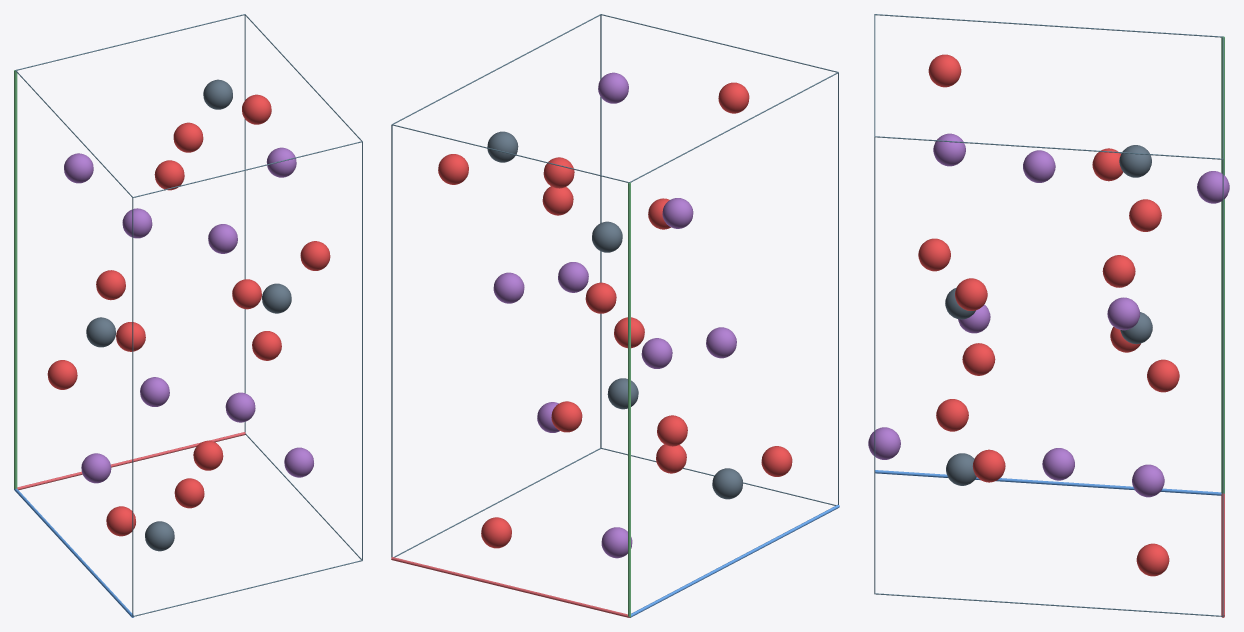
Rendered from chat-potassium-carbonate.glb.
3 renders of one model, left to right at view 1: azimuth 30°, elevation 25°; view 2: azimuth 150°, elevation 25°; view 3: azimuth 270°, elevation 25°, orthographic. The views are drawn at different scales.
Parts seen in each view (by area): view 1: Ô mạng và các trục a, b, c, K2 · K · 1 (×4), C · C · 1 (×4), O3 · O · 1 (×4), O1 · O · 1 (×4), O2 · O · 1 (×4), K1 · K · 1 (×4); view 2: Ô mạng và các trục a, b, c, O2 · O · 1 (×4), K1 · K · 1 (×4), O1 · O · 1 (×4), C · C · 1 (×4), K2 · K · 1 (×3), O3 · O · 1 (×3); view 3: Ô mạng và các trục a, b, c, O1 · O · 1 (×4), K2 · K · 1 (×4), O3 · O · 1 (×4), K1 · K · 1 (×4), O2 · O · 1 (×3), C · C · 1 (×3).
Boxes of the visible parts, <box> form: Ô mạng và các trục a, b, c: <box>14,14,362,617</box>; K2 · K · 1 (×4): <box>64,153,313,477</box>; C · C · 1 (×4): <box>86,79,291,551</box>; O3 · O · 1 (×4): <box>116,122,261,508</box>; O1 · O · 1 (×4): <box>96,160,281,470</box>; O2 · O · 1 (×4): <box>47,94,330,536</box>; K1 · K · 1 (×4): <box>81,147,296,483</box>; Ô mạng và các trục a, b, c: <box>391,14,839,617</box>; O2 · O · 1 (×4): <box>438,154,792,476</box>; K1 · K · 1 (×4): <box>493,72,736,558</box>; O1 · O · 1 (×4): <box>481,82,749,548</box>; C · C · 1 (×4): <box>487,131,743,499</box>; K2 · K · 1 (×3): <box>558,198,693,368</box>; O3 · O · 1 (×3): <box>543,157,686,473</box>; Ô mạng và các trục a, b, c: <box>874,14,1224,617</box>; O1 · O · 1 (×4): <box>928,54,1169,576</box>; K2 · K · 1 (×4): <box>868,150,1229,480</box>; O3 · O · 1 (×4): <box>918,148,1179,482</box>; K1 · K · 1 (×4): <box>933,133,1164,497</box>; O2 · O · 1 (×3): <box>936,199,1161,431</box>; C · C · 1 (×3): <box>946,145,1152,485</box>.
Bounding box in the file's own units: 6.73 × 9.89 × 7.05.
